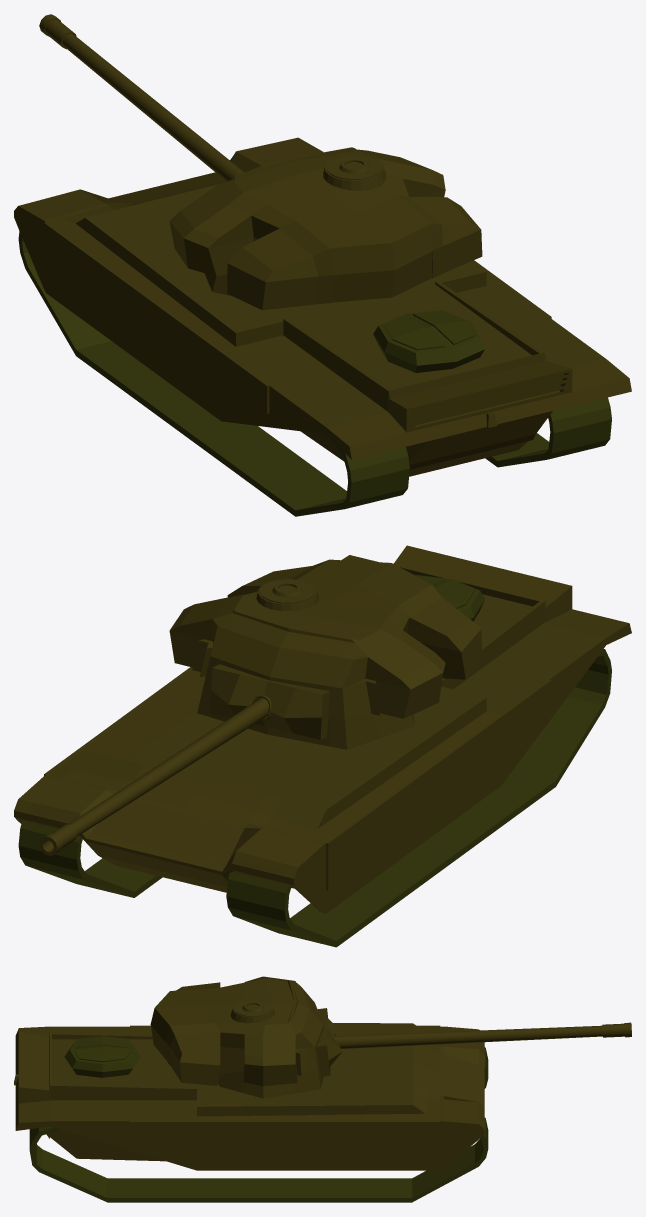
The model's file is Tank_Painted.fbx.
3 renders of one model, top to bottom at view 1: azimuth 30°, elevation 25°; view 2: azimuth 150°, elevation 25°; view 3: azimuth 270°, elevation 25°, orthographic. The views are drawn at different scales.
Parts seen in each view (by area): view 1: body, turret, track, rear_parts1, barrel, hatch; view 2: body, turret, track, turret_front, barrel, hatch, rear_parts1; view 3: body, turret, track, barrel, rear_parts1, turret_front, hatch.
Boxes of the visible parts, left/top/right/bottom form: body: left=14, top=137, right=631, bottom=476; turret: left=169, top=147, right=482, bottom=310; track: left=18, top=231, right=611, bottom=516; rear_parts1: left=373, top=310, right=484, bottom=372; barrel: left=39, top=14, right=244, bottom=181; hatch: left=323, top=155, right=385, bottom=190; body: left=14, top=545, right=631, bottom=913; turret: left=169, top=559, right=482, bottom=749; track: left=18, top=649, right=611, bottom=947; turret_front: left=210, top=664, right=330, bottom=739; barrel: left=39, top=697, right=268, bottom=855; hatch: left=256, top=579, right=318, bottom=610; rear_parts1: left=415, top=575, right=484, bottom=621; body: left=14, top=1023, right=484, bottom=1170; turret: left=150, top=976, right=323, bottom=1098; track: left=29, top=1047, right=488, bottom=1202; barrel: left=334, top=1022, right=631, bottom=1048; rear_parts1: left=64, top=1036, right=140, bottom=1077; turret_front: left=317, top=1008, right=342, bottom=1076; hatch: left=230, top=1000, right=274, bottom=1023.
Size of the model in its own units: 177 by 141 by 481.
